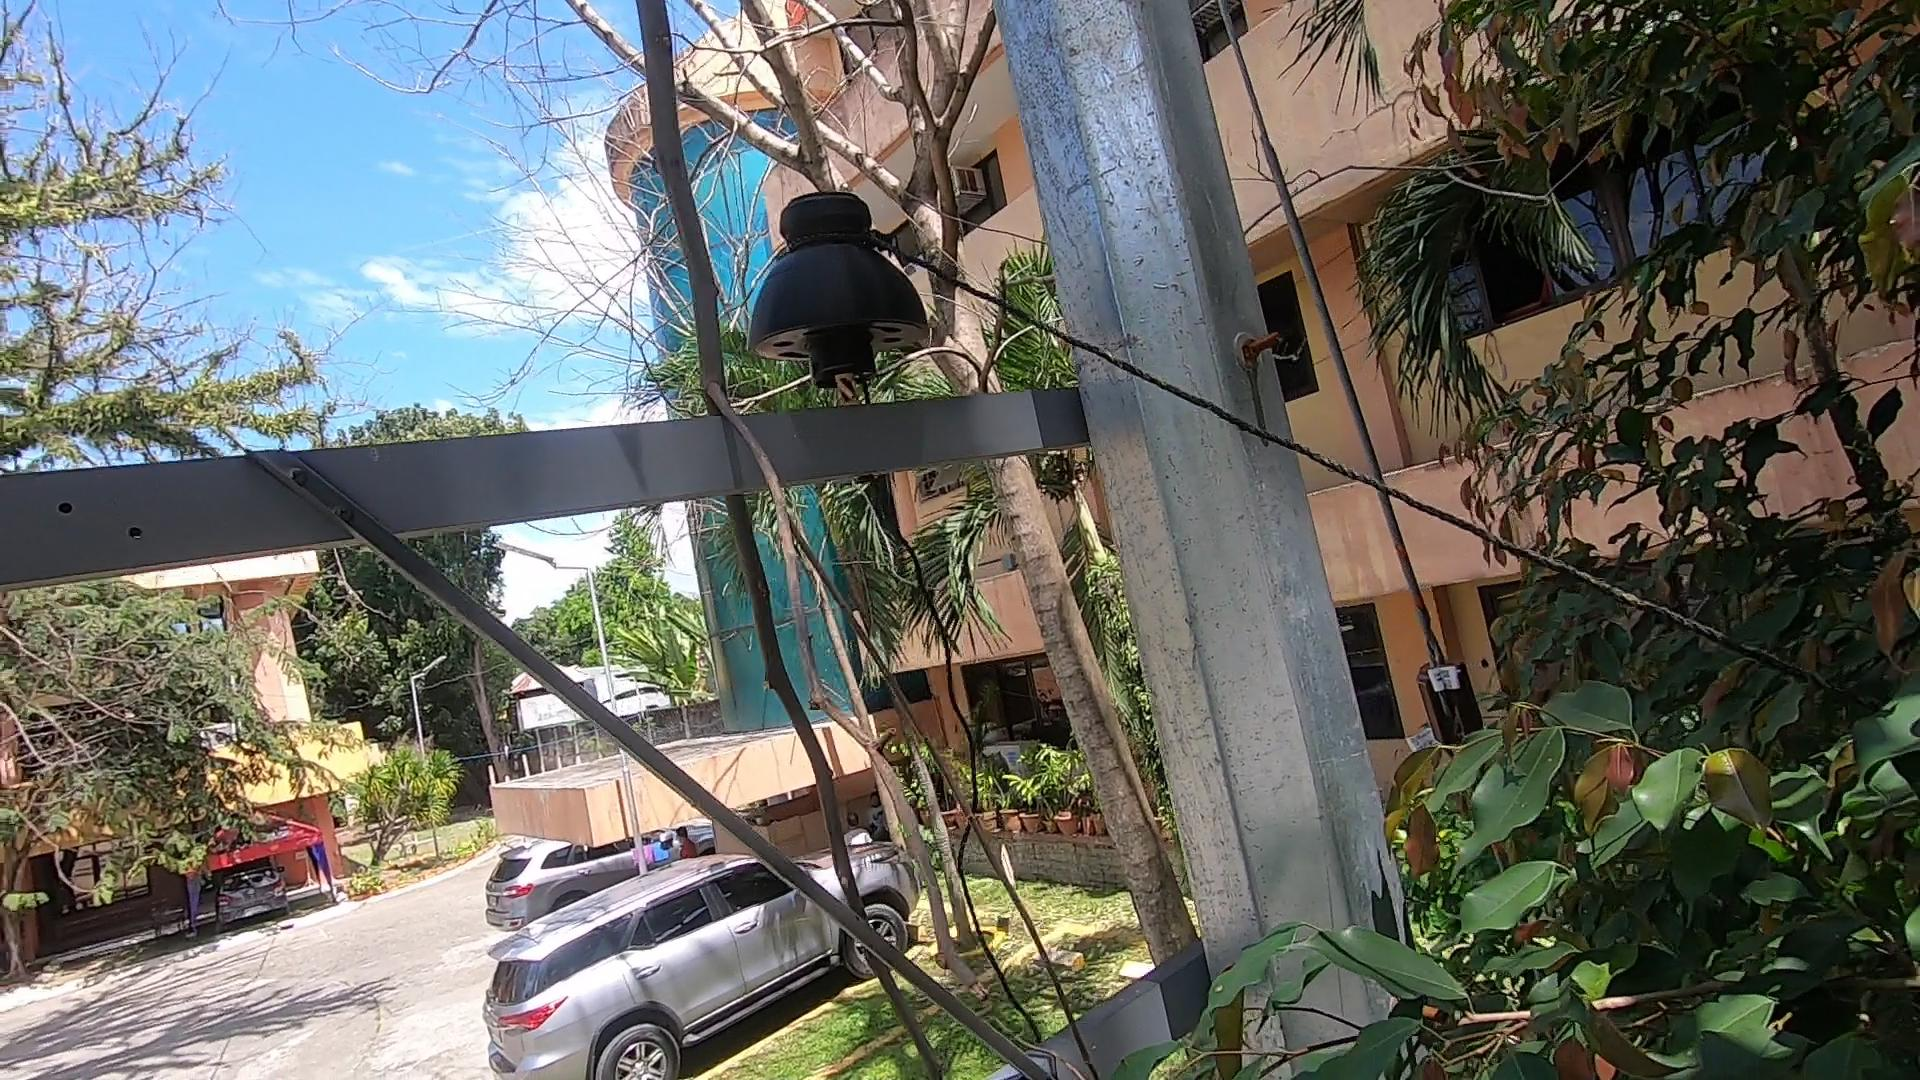tree branch: (593, 7, 1120, 1080)
